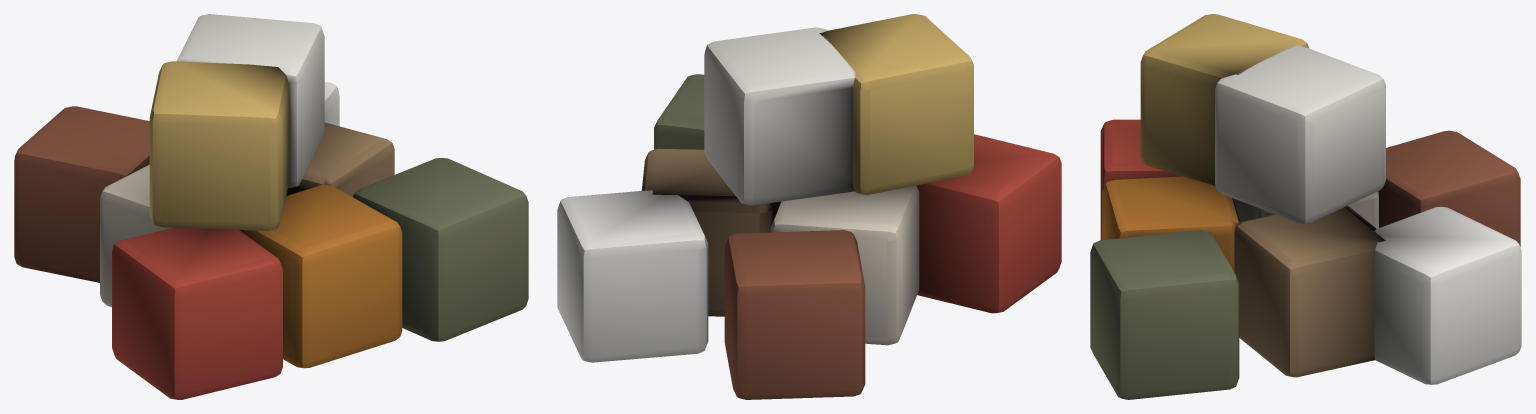
Rendered from toy_block_set.glb.
The picture shows the model from 3 angles, left to right: view 1: azimuth 30°, elevation 25°; view 2: azimuth 150°, elevation 25°; view 3: azimuth 270°, elevation 25°; orthographic projection. The views are drawn at different scales.
Visible parts, largest first — view 1: toy_block_set; view 2: toy_block_set; view 3: toy_block_set.
Part boxes in pixels (x1=…): toy_block_set: x1=14, y1=14, x2=528, y2=399; toy_block_set: x1=557, y1=14, x2=1061, y2=399; toy_block_set: x1=1090, y1=14, x2=1521, y2=399.
Bounding box in the file's own units: 0.272 × 0.175 × 0.2862.
